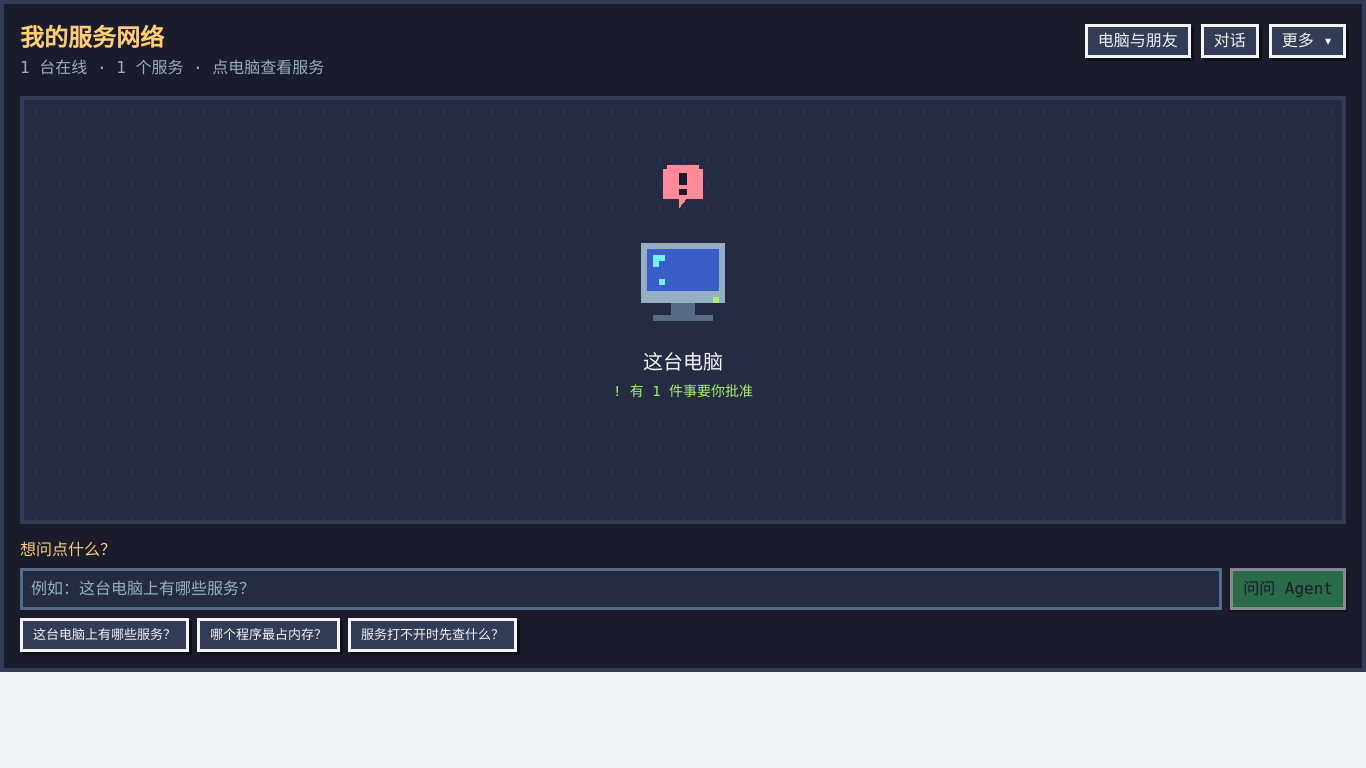
地图上的本机修复 › Escape 只关框，不会拒绝
Click the button named "这台电脑有 1 个待批准的修复" at [683, 186], box top-left (663, 164), bottom-right (703, 208)
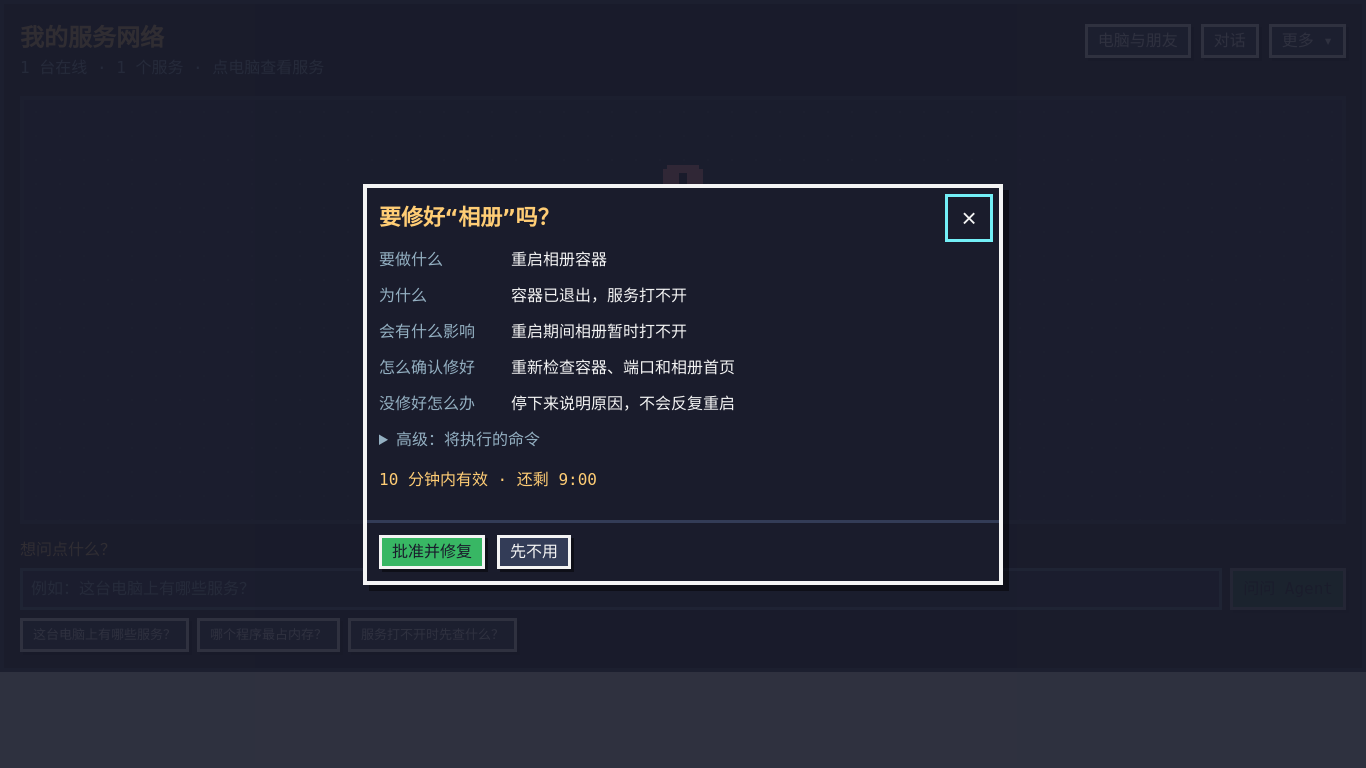
Press Escape in the dialog "要修好“相册”吗？", box top-left (363, 184), bottom-right (1003, 584)
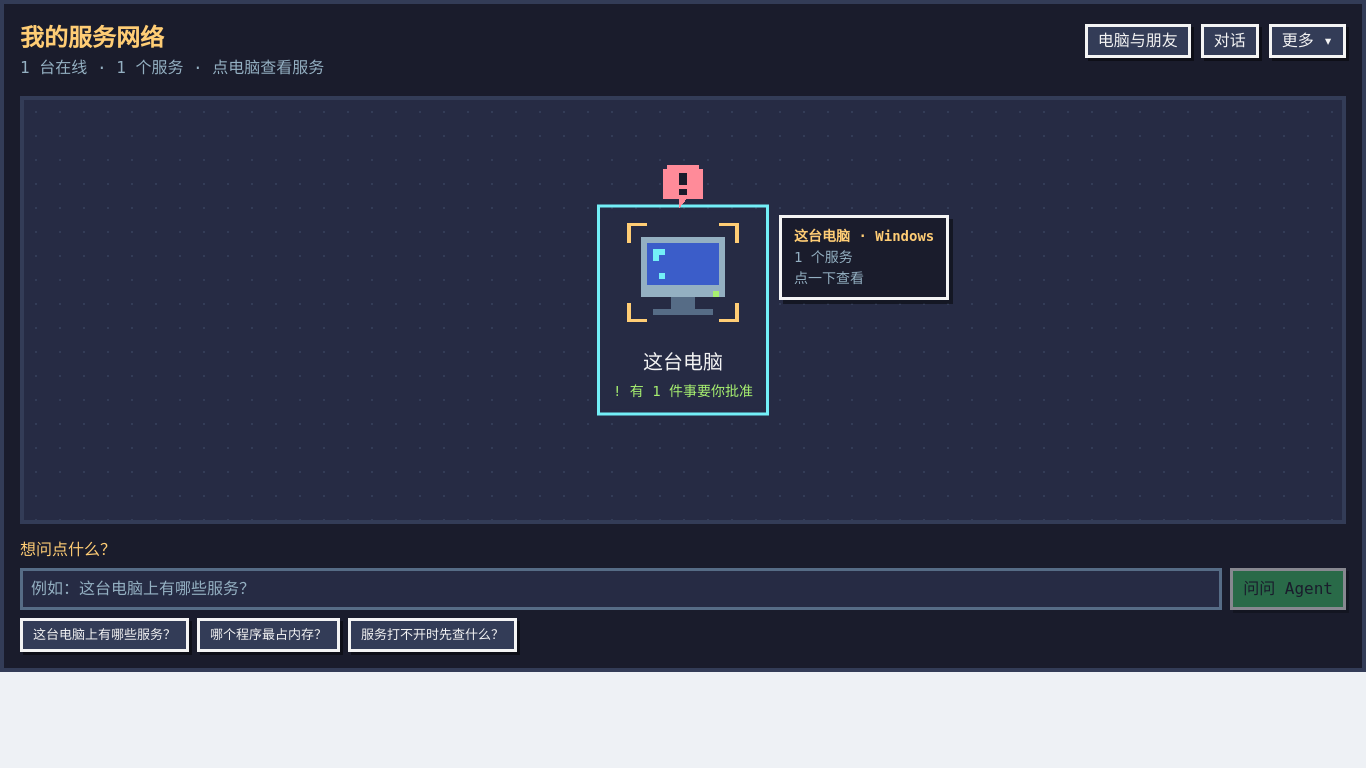
Expected: the button named "这台电脑有 1 个待批准的修复" is shown, top-left (663, 164), bottom-right (703, 208)
Expected: the heading "要修好“相册”吗？" is gone
